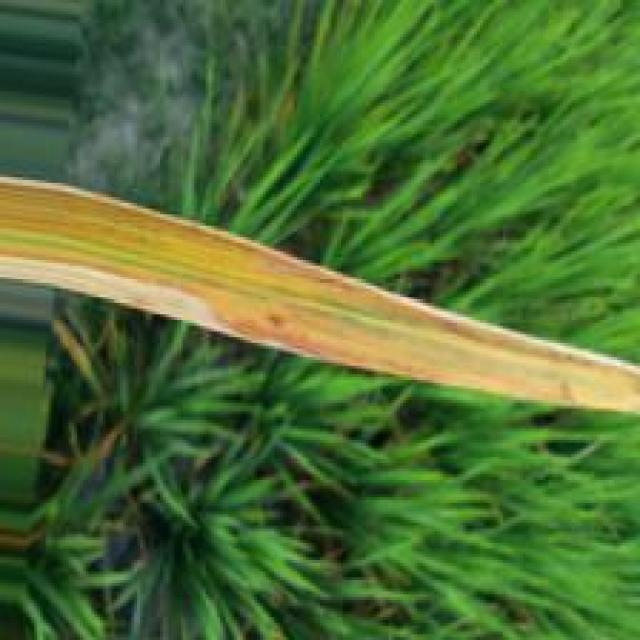Bacterial_Leaf_Blight: (10, 178, 640, 427), (0, 253, 331, 357)
